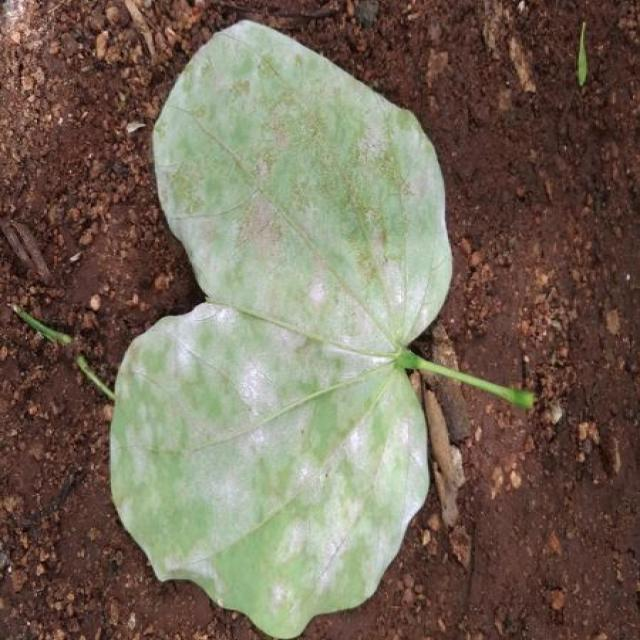Kambajala: (112, 21, 452, 637)
